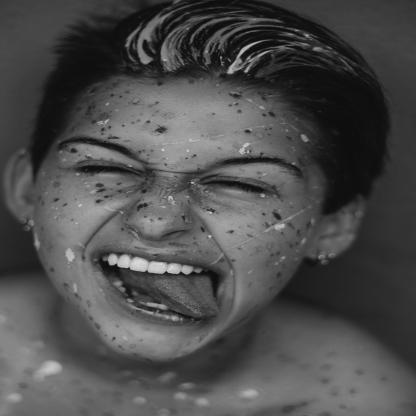Eye: (195, 171, 277, 197), (69, 156, 147, 178)
Mouth: (92, 245, 230, 324)
Nose: (124, 167, 197, 239)
